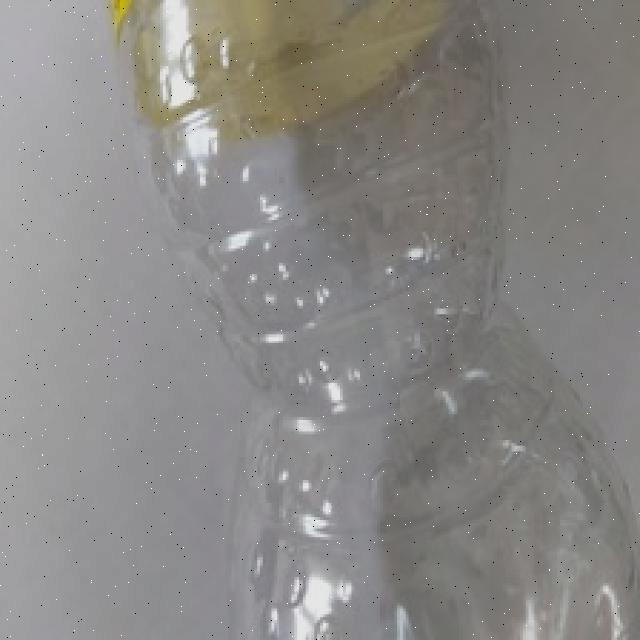bottle: (91, 0, 634, 637)
